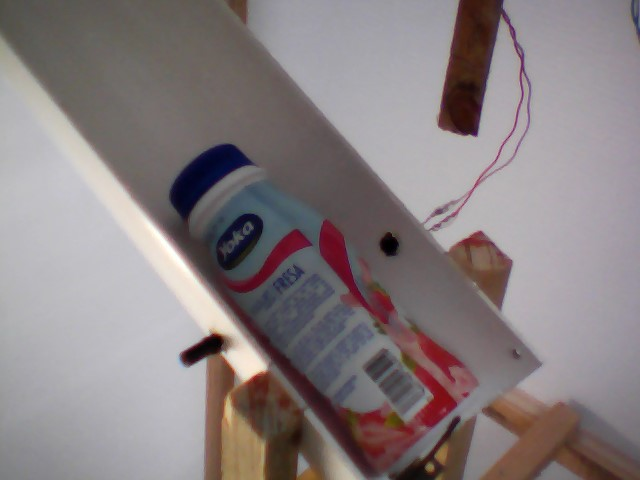plastico: (151, 135, 487, 478)
